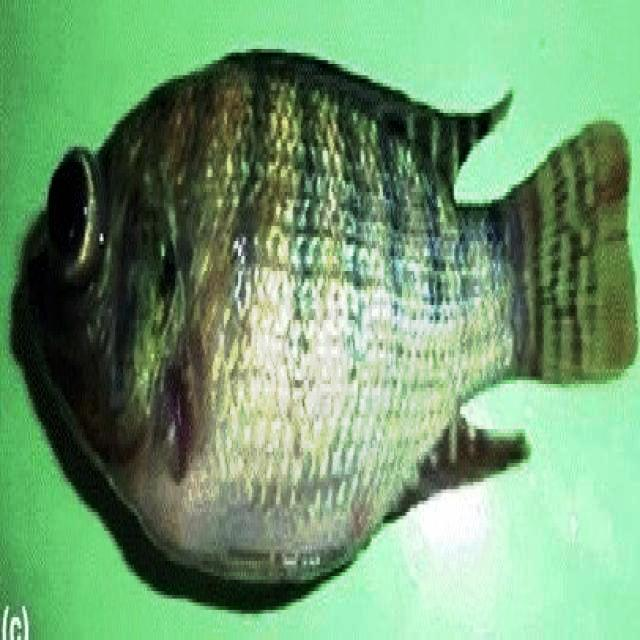Tilapia Lake Virus -TiLV-: (12, 50, 636, 612)
